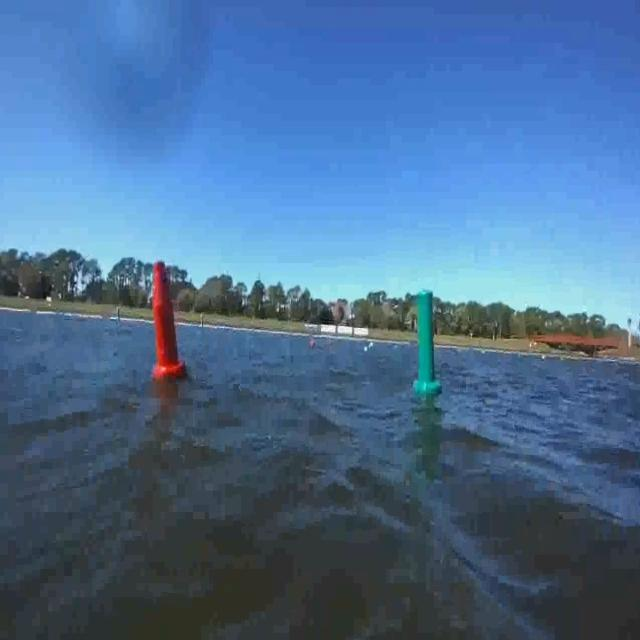green-column-buoy: (414, 287, 442, 397)
red-column-buoy: (149, 259, 186, 383)
